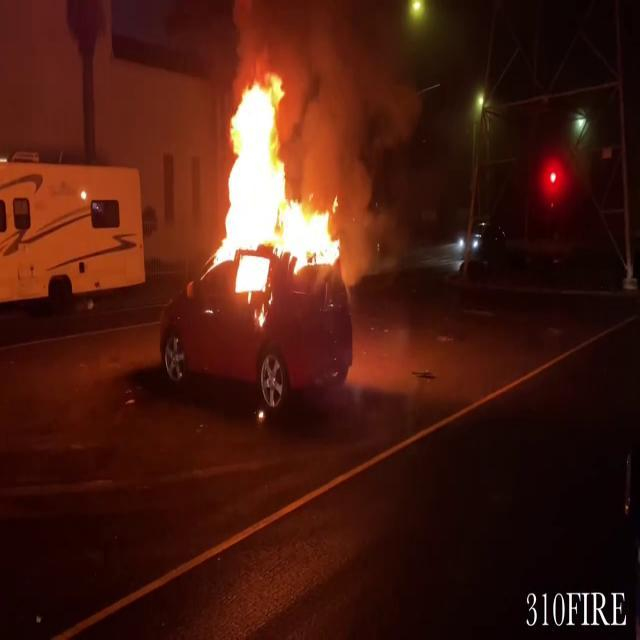Fire: (209, 67, 347, 281)
Smoke: (285, 0, 462, 213)
